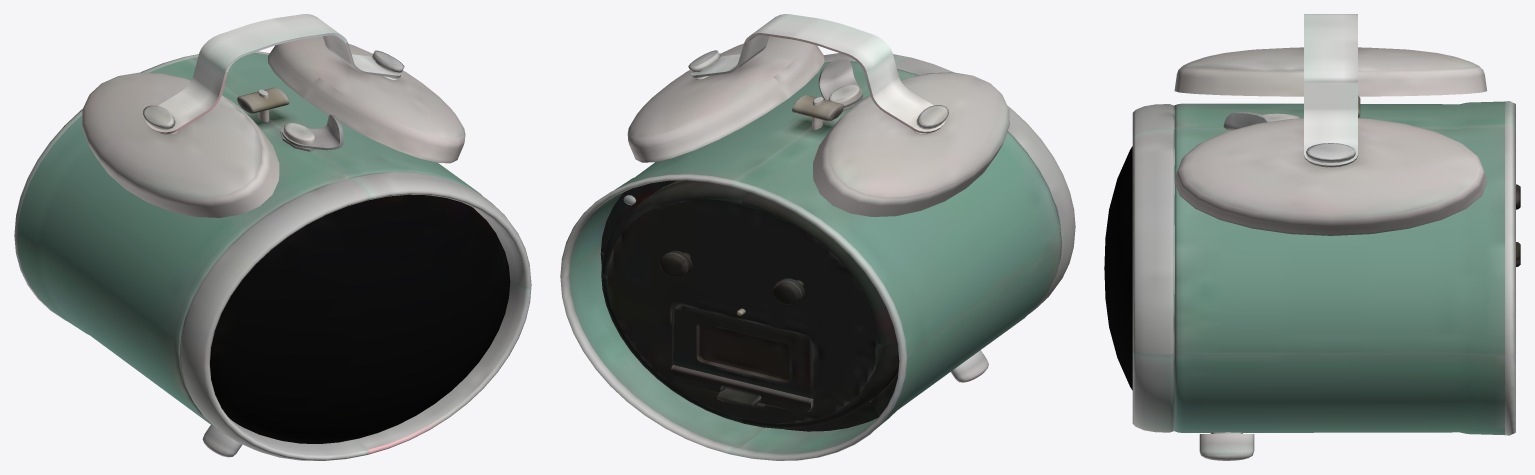
Rendered from ph-alarm-clock-01.glb.
The picture shows the model from 3 angles, left to right: view 1: azimuth 30°, elevation 25°; view 2: azimuth 150°, elevation 25°; view 3: azimuth 270°, elevation 25°; orthographic projection. The views are drawn at different scales.
Parts seen in each view (by area): view 1: alarm_clock_01; view 2: alarm_clock_01; view 3: alarm_clock_01.
Part boxes in pixels (<box>): alarm_clock_01: <box>14,14,531,460</box>; alarm_clock_01: <box>560,14,1075,460</box>; alarm_clock_01: <box>1104,14,1520,460</box>.
Bounding box in the file's own units: 1 × 1 × 1.
Materials: 2 (2 with a texture image).
